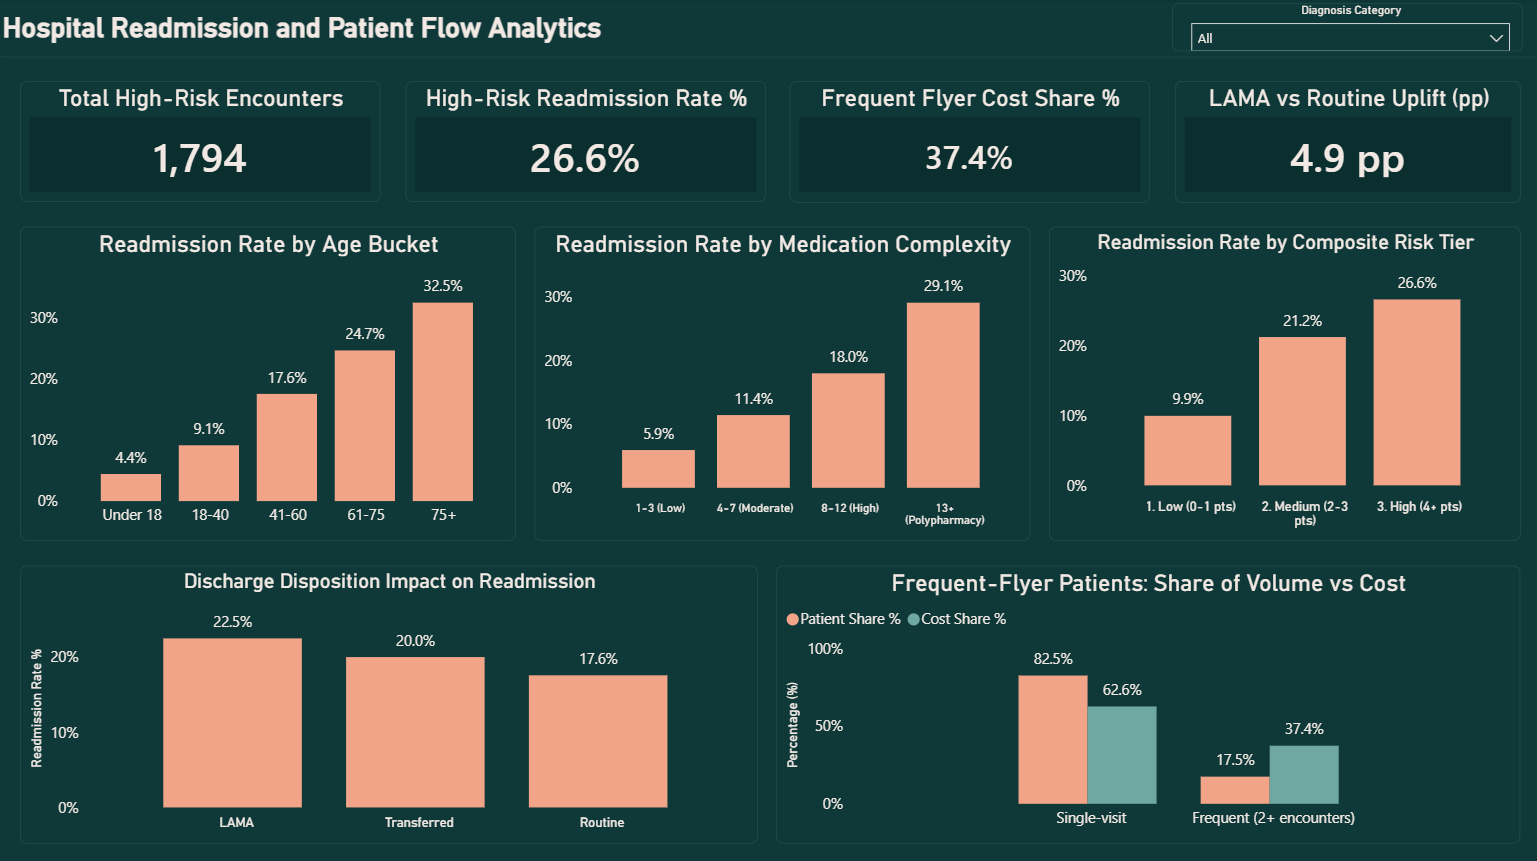

What the dashboard file says about the page in this screenshot:
{"tool":"powerbi","page":{"name":"Risk Drivers & High-Risk Segments","canvas":[1280,720],"ordinal":1},"visuals":[{"type":"textbox","title":"Hospital Readmission and Patient Flow Analytics","box":[0,0,1279.6,50.3],"z":0},{"type":"cardVisual","title":"Total High-Risk Encounters","fields":{"Data":["_Measures.Total High-Risk Encounters"]},"box":[20,70,298,100],"z":1000},{"type":"cardVisual","title":"High-Risk Readmission Rate %","fields":{"Data":["_Measures.High-Risk Readmission Rate %"]},"box":[338,70,298,100],"z":2000},{"type":"cardVisual","title":"Frequent Flyer Cost Share %","fields":{"Data":["_Measures.Frequent Flyer Cost Share %"]},"box":[656,70,298,100.7],"z":3000},{"type":"cardVisual","title":"LAMA vs Routine Uplift (pp)","fields":{"Data":["_Measures.LAMA vs Routine Uplift (pp)"]},"box":[974.2,69.6,286.1,100.5],"z":4000},{"type":"clusteredColumnChart","title":" Readmission Rate by Age Bucket","fields":{"Category":["encounters_features.AgeBucketLabel"],"Y":["_Measures.Readmission Rate %"]},"box":[20,190,410,260],"z":5000},{"type":"clusteredColumnChart","title":"Readmission Rate by Medication Complexity","fields":{"Category":["encounters_features.MedBucketLabel"],"Y":["_Measures.Readmission Rate %"]},"box":[445,190,410,260],"z":6000},{"type":"clusteredColumnChart","title":" Readmission Rate by Composite Risk Tier","fields":{"Category":["encounters_features.RiskTier"],"Y":["_Measures.Risk Tier Readmission Rate %"]},"box":[870,190,390,260],"z":7000},{"type":"clusteredColumnChart","title":" Frequent-Flyer Patients: Share of Volume vs Cost","fields":{"Category":["encounters_features.FrequentFlyerLabel"],"Y":["_Measures.Patient Share %","_Measures.Cost Share %"]},"box":[645,470,615,230],"z":8000},{"type":"slicer","title":"Diagnosis Category","fields":{"Values":["encounters_features.diagnosis_category"]},"box":[971.6,5.2,289.9,39.9],"z":9000},{"type":"clusteredColumnChart","title":"Discharge Disposition Impact on Readmission","fields":{"Category":["encounters_features.discharge_disposition"],"Y":["_Measures.Readmission Rate %"]},"box":[20,470,610,230],"z":10000}]}

Visuals, with their boxes in screenshot pixels (x1, y1, x2, y2), scaled from the page's 1280x720 canvas onto the 1537x861 screenshot:
"Hospital Readmission and Patient Flow Analytics" textbox: [0, 0, 1536, 60]
"Total High-Risk Encounters" cardVisual: [24, 84, 382, 203]
"High-Risk Readmission Rate %" cardVisual: [406, 84, 764, 203]
"Frequent Flyer Cost Share %" cardVisual: [788, 84, 1146, 204]
"LAMA vs Routine Uplift (pp)" cardVisual: [1170, 83, 1513, 203]
" Readmission Rate by Age Bucket" clusteredColumnChart: [24, 227, 516, 538]
"Readmission Rate by Medication Complexity" clusteredColumnChart: [534, 227, 1027, 538]
" Readmission Rate by Composite Risk Tier" clusteredColumnChart: [1045, 227, 1513, 538]
" Frequent-Flyer Patients: Share of Volume vs Cost" clusteredColumnChart: [775, 562, 1513, 837]
"Diagnosis Category" slicer: [1167, 6, 1515, 54]
"Discharge Disposition Impact on Readmission" clusteredColumnChart: [24, 562, 756, 837]
